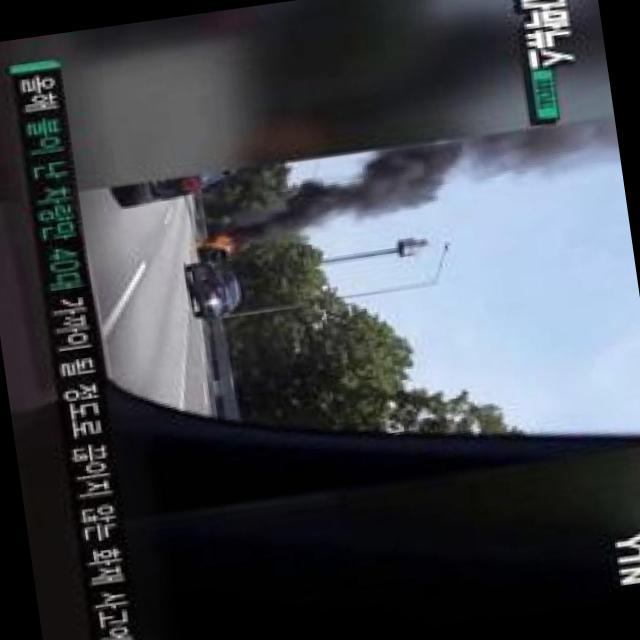Fire: (199, 228, 236, 256)
